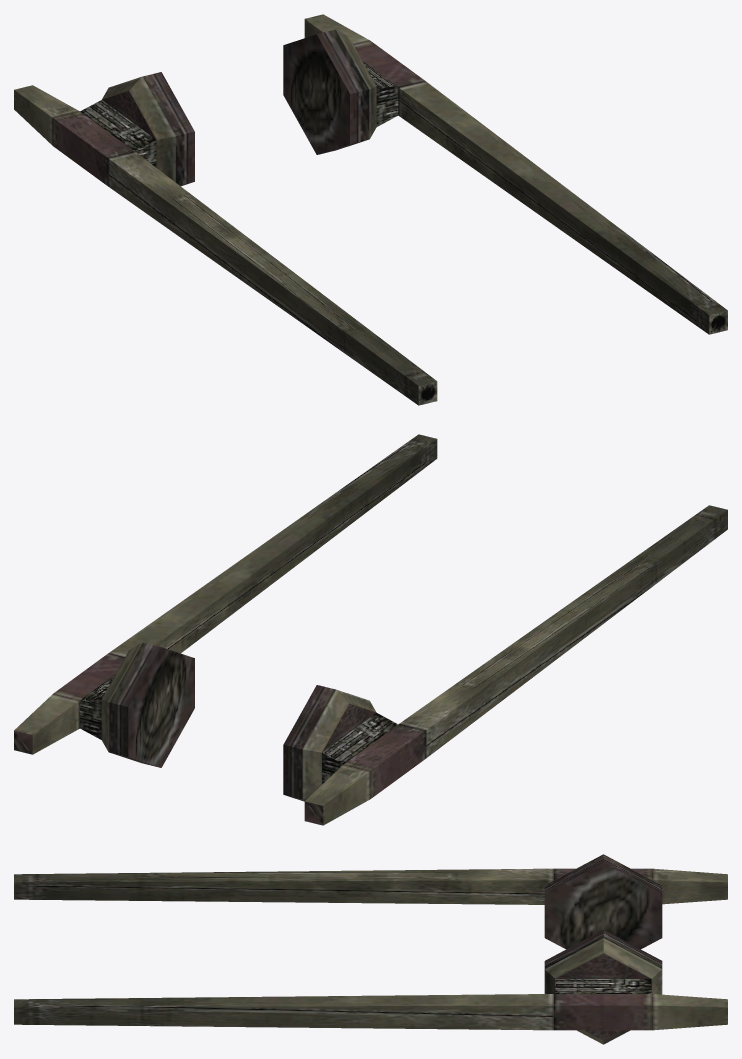
File: smuggler_warlord_ship_turretbody_nose_l2.fbx
3 views of the same model, one above another, from view 1: azimuth 30°, elevation 25°; view 2: azimuth 150°, elevation 25°; view 3: azimuth 270°, elevation 25° (orthographic). The views are drawn at different scales.
Visible parts, largest first — view 1: mesh_node; view 2: mesh_node; view 3: mesh_node.
Boxes of the visible parts, left/top/right/bottom form: mesh_node: left=14, top=14, right=727, bottom=405; mesh_node: left=14, top=434, right=727, bottom=825; mesh_node: left=14, top=854, right=727, bottom=1044.
Size of the model in its own units: 6.13 by 2.23 by 13.52.
